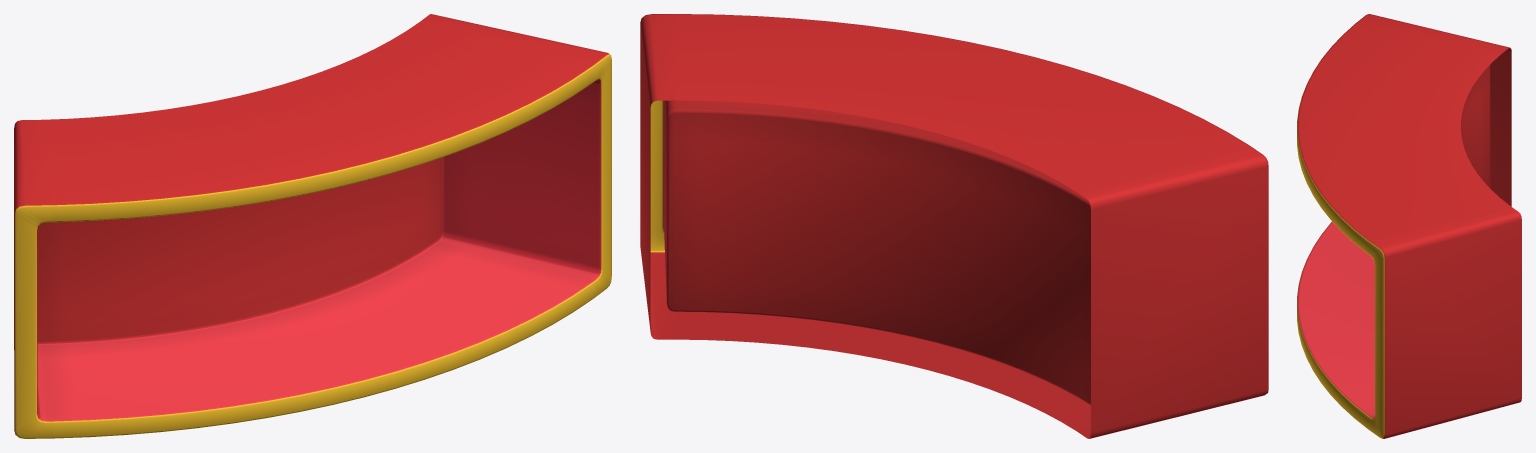
The model's file is guizi_04.FBX.
3 views of the same model, side by side, from view 1: azimuth 30°, elevation 25°; view 2: azimuth 150°, elevation 25°; view 3: azimuth 270°, elevation 25° (orthographic). The views are drawn at different scales.
Visible parts, largest first — view 1: guizi_04; view 2: guizi_04; view 3: guizi_04.
Boxes of the visible parts, left/top/right/bottom form: guizi_04: left=14, top=14, right=611, bottom=438; guizi_04: left=640, top=14, right=1268, bottom=438; guizi_04: left=1297, top=14, right=1521, bottom=438.
Bounding box in the file's own units: 458 × 169 × 182.
1 material, 1 textured.
